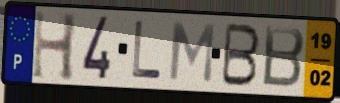4: (80, 14, 113, 82)
B: (260, 24, 307, 91), (219, 21, 262, 89)
H: (30, 8, 79, 83)
L: (130, 20, 164, 83)
M: (167, 21, 217, 86)
